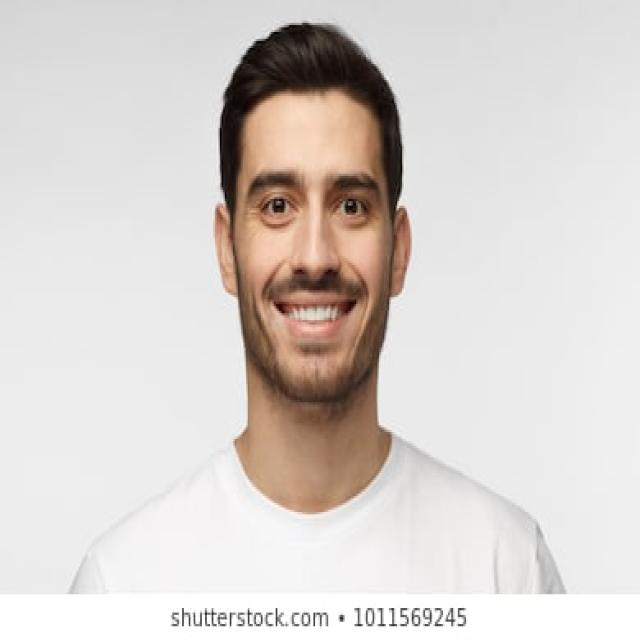human: (77, 14, 564, 592)
